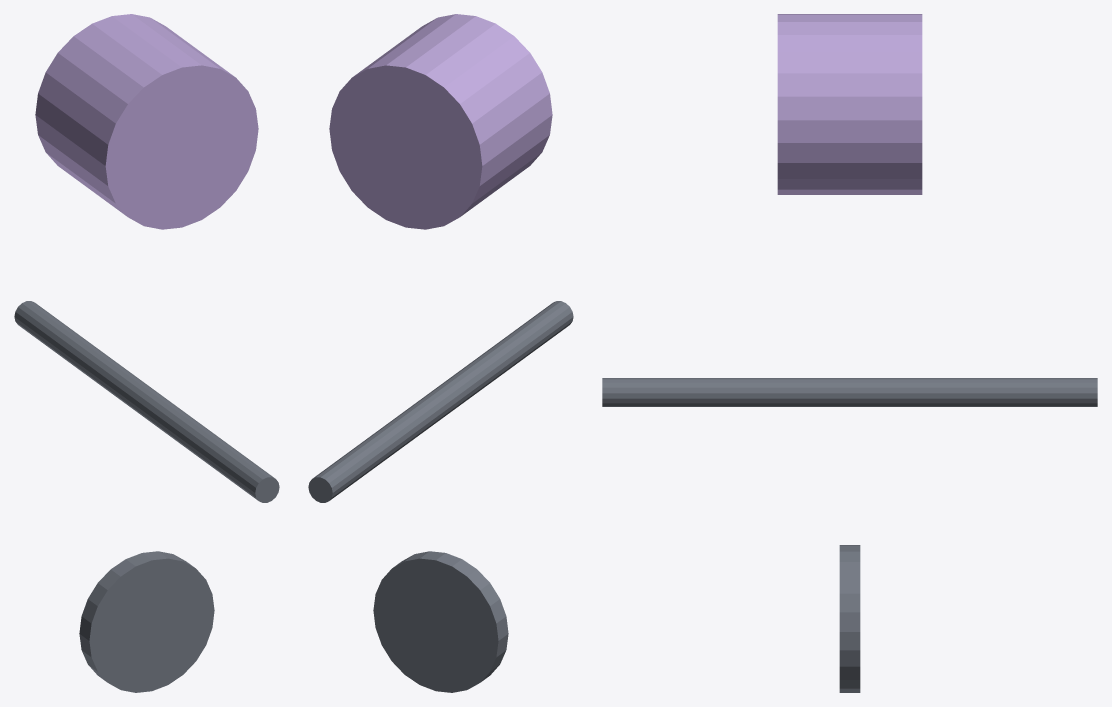
Rendered from lamp.glb.
3 renders of one model, left to right at view 1: azimuth 30°, elevation 25°; view 2: azimuth 150°, elevation 25°; view 3: azimuth 270°, elevation 25°, orthographic. The views are drawn at different scales.
Visible parts, largest first — view 1: shade, base, stem; view 2: shade, base, stem; view 3: shade, stem, base.
Part boxes in pixels (left/top/right/bottom): shade: left=35, top=14, right=258, bottom=229; base: left=79, top=551, right=214, bottom=692; stem: left=14, top=301, right=279, bottom=502; shade: left=329, top=14, right=552, bottom=229; base: left=373, top=551, right=508, bottom=692; stem: left=308, top=301, right=573, bottom=502; shade: left=777, top=14, right=922, bottom=194; stem: left=602, top=378, right=1097, bottom=406; base: left=839, top=545, right=860, bottom=692.
Bounding box in the file's own units: 0.44 × 1.78 × 1.2.
